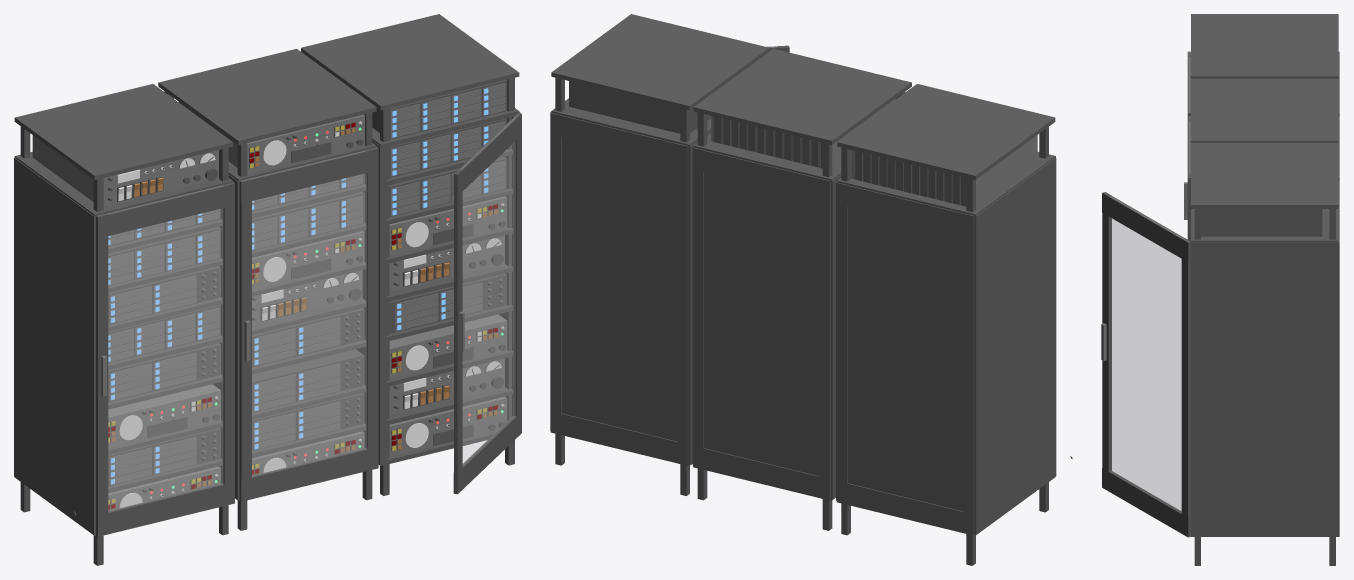
The model's file is server_rack.glb.
3 renders of one model, left to right at view 1: azimuth 30°, elevation 25°; view 2: azimuth 150°, elevation 25°; view 3: azimuth 270°, elevation 25°, orthographic. The views are drawn at different scales.
Parts seen in each view (by area): view 1: polySurface622, polySurface880, pCube118, polySurface406, pCube96, pCube80, pCube23, pCube98, polySurface623, polySurface1012, polySurface1069, polySurface878 (+55 smaller); view 2: pCube22, pCube116, pCube79, pCube118, pCube96, pCube80, pCube23, pCube98, polySurface1012, polySurface1069, pCube86, pCube78 (+5 smaller); view 3: pCube15, polySurface406, pCube23, pCube80, pCube96, polySurface1069, pCube9, pCube22, polySurface880, pCube10, pCube13, polySurface622.
Boxes of the visible parts, x1,y1,x2,y2 form: polySurface622: [239, 147, 378, 501]; polySurface880: [96, 182, 234, 536]; pCube118: [14, 158, 95, 534]; polySurface406: [453, 113, 521, 494]; pCube96: [14, 84, 232, 180]; pCube80: [158, 49, 376, 144]; pCube23: [301, 14, 519, 110]; pCube98: [32, 135, 218, 206]; polySurface623: [252, 349, 364, 412]; polySurface1012: [178, 102, 364, 174]; polySurface1069: [372, 80, 507, 139]; polySurface878: [108, 343, 220, 402]; pCube22: [550, 112, 688, 465]; pCube116: [836, 182, 974, 535]; pCube79: [693, 147, 830, 500]; pCube118: [974, 157, 1056, 534]; pCube96: [837, 84, 1055, 179]; pCube80: [693, 48, 911, 144]; pCube23: [551, 14, 769, 110]; pCube98: [851, 135, 1037, 206]; polySurface1012: [711, 99, 895, 168]; polySurface1069: [569, 81, 711, 133]; pCube86: [837, 152, 1055, 218]; pCube78: [830, 167, 851, 499]; pCube15: [1191, 242, 1338, 536]; polySurface406: [1101, 192, 1190, 537]; pCube23: [1191, 142, 1338, 208]; pCube80: [1191, 78, 1338, 142]; pCube96: [1191, 14, 1338, 78]; polySurface1069: [1201, 209, 1322, 236]; pCube9: [1191, 209, 1338, 242]; pCube22: [1336, 180, 1339, 536]; polySurface880: [1184, 51, 1190, 239]; pCube10: [1194, 209, 1200, 565]; pCube13: [1329, 209, 1335, 565]; polySurface622: [1188, 116, 1190, 241].
Bounding box in the file's own units: 0.0321 × 0.0271 × 0.0162.
